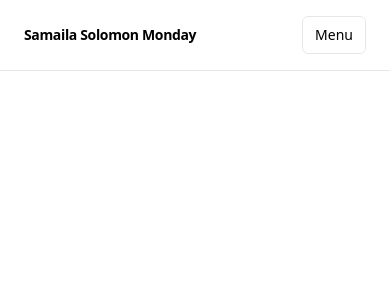
Scenario: Navigation › closes mobile menu on second button click
Click the button with aria-label "open menu".
click(334, 35)  # box [302, 16, 366, 54]
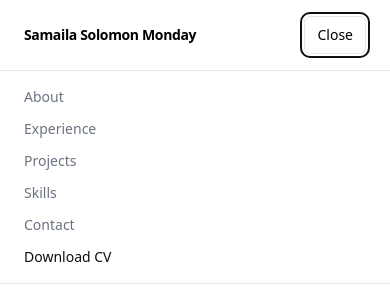
Expected: the element with id "mobile-menu" is shown
Click the button named "open menu".
click(335, 35)  # box [304, 16, 366, 54]
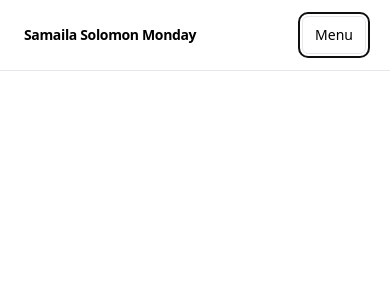
Expected: the element with id "mobile-menu" is gone
Expected: the button with aria-label "open menu" is collapsed, [302, 16, 366, 54]
